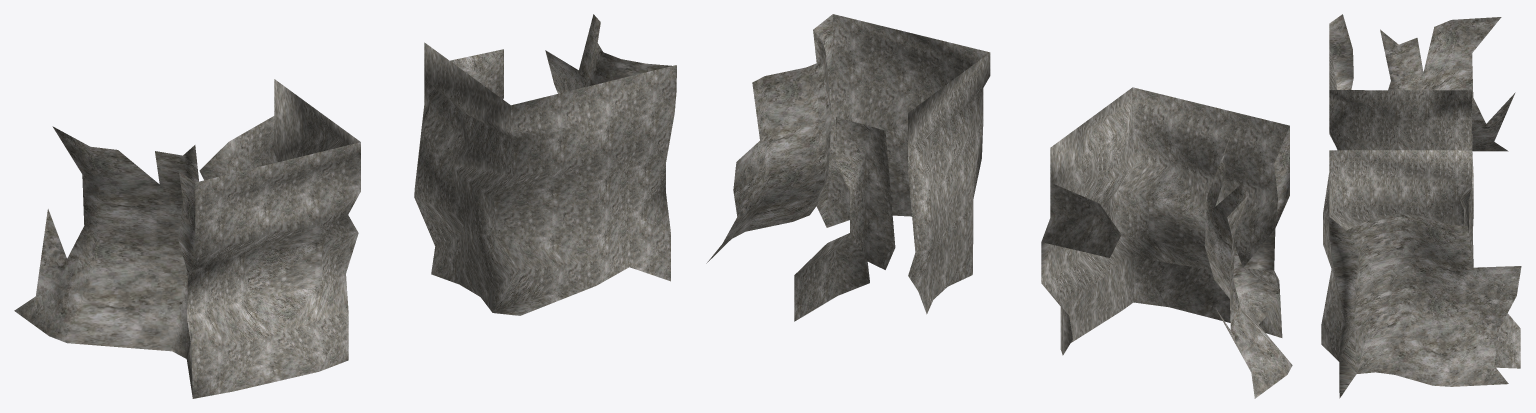
File: DWARF_PALACE_FORGE_CAVEC.fbx
3 views of the same model, side by side, from view 1: azimuth 30°, elevation 25°; view 2: azimuth 150°, elevation 25°; view 3: azimuth 270°, elevation 25° (orthographic). The views are drawn at different scales.
Parts seen in each view (by area): view 1: DWARF_PALACE_FORGE_CAVEC; view 2: DWARF_PALACE_FORGE_CAVEC; view 3: DWARF_PALACE_FORGE_CAVEC.
Part boxes in pixels (box(x1,y1,x2,y2)): DWARF_PALACE_FORGE_CAVEC: box(14, 14, 676, 398); DWARF_PALACE_FORGE_CAVEC: box(706, 14, 1292, 398); DWARF_PALACE_FORGE_CAVEC: box(1321, 14, 1521, 398).
Size of the model in its own units: 781473 by 291584 by 280630.
Materials: 2 (2 with a texture image).
